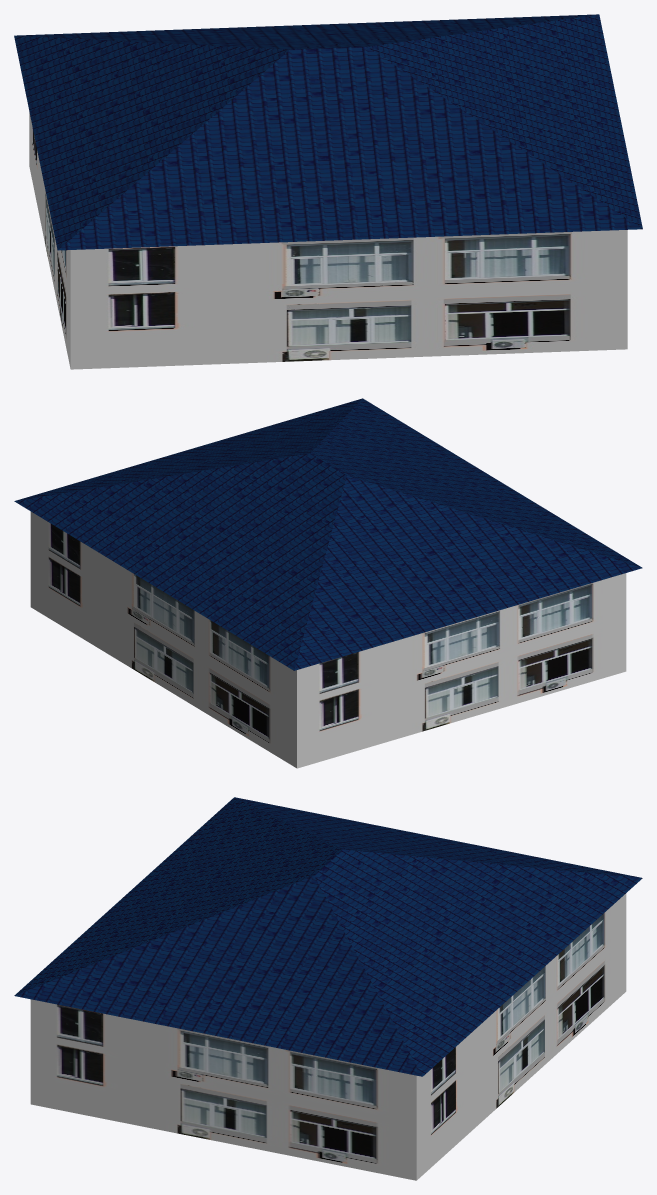
3 views of the same model, one above another, from view 1: azimuth 30°, elevation 25°; view 2: azimuth 150°, elevation 25°; view 3: azimuth 270°, elevation 25° (orthographic). The views are drawn at different scales.
Parts seen in each view (by area): view 1: CityEngineMaterial_6_m, CityEngineMaterial_9_m; view 2: CityEngineMaterial_6_m, CityEngineMaterial_9_m; view 3: CityEngineMaterial_6_m, CityEngineMaterial_9_m.
Boxes of the visible parts, x1=… form: CityEngineMaterial_6_m: x1=14, y1=14, x2=642, y2=250; CityEngineMaterial_9_m: x1=29, y1=112, x2=627, y2=369; CityEngineMaterial_6_m: x1=14, y1=398, x2=642, y2=670; CityEngineMaterial_9_m: x1=30, y1=511, x2=626, y2=768; CityEngineMaterial_6_m: x1=14, y1=797, x2=642, y2=1076; CityEngineMaterial_9_m: x1=30, y1=893, x2=626, y2=1180.
Bounding box in the file's own units: 49.29 × 15.24 × 46.85.
